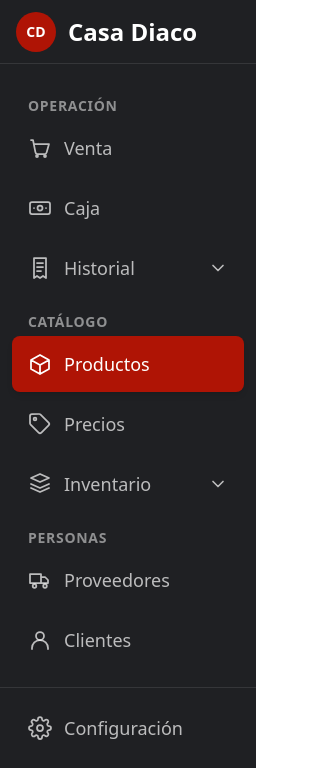
Test case: Sidebar › shows only divider lines between groups when the rail is collapsed
Click the button named "Colapsar menú".
click(128, 32)  # box [16,6,240,58]
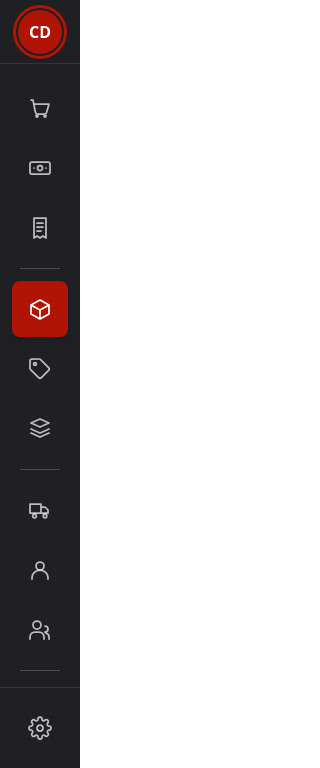
Expected: the text "Catálogo" is gone
